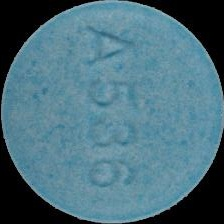10370-536: (0, 0, 224, 224)
